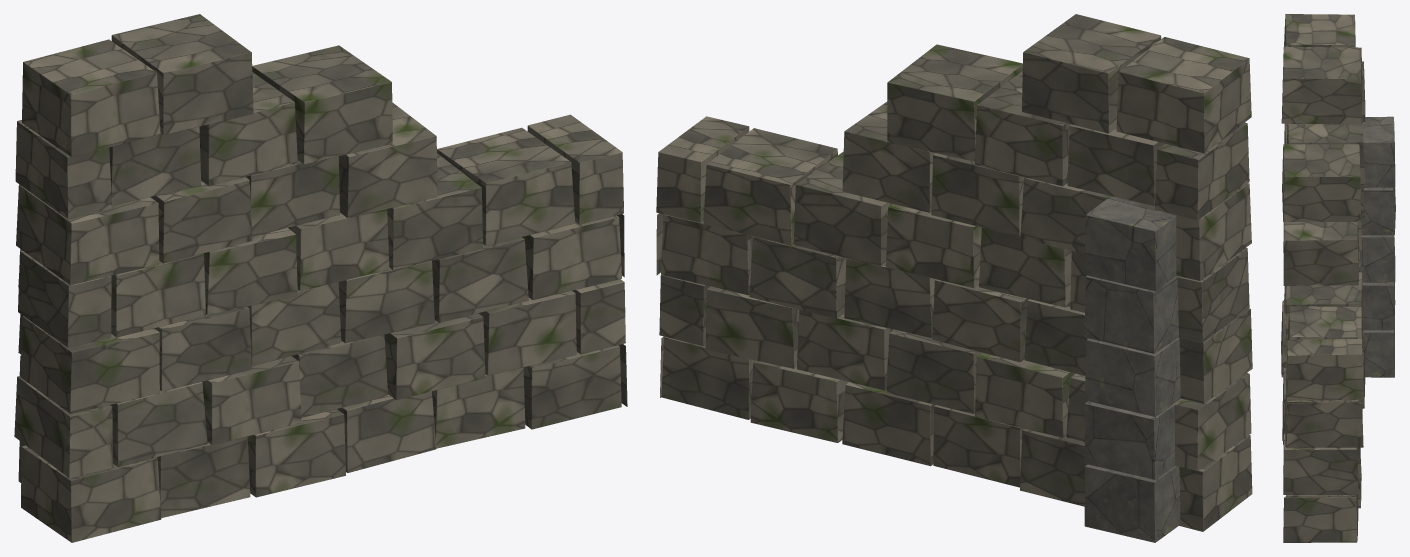
File: RuinWall_A.fbx
The picture shows the model from 3 angles, left to right: view 1: azimuth 30°, elevation 25°; view 2: azimuth 150°, elevation 25°; view 3: azimuth 270°, elevation 25°; orthographic projection. The views are drawn at different scales.
Visible parts, largest first — view 1: RuinWall_A; view 2: RuinWall_A; view 3: RuinWall_A.
Part boxes in pixels (left/top/right/bottom): RuinWall_A: left=14, top=14, right=627, bottom=542; RuinWall_A: left=656, top=14, right=1252, bottom=542; RuinWall_A: left=1281, top=14, right=1395, bottom=542.
Size of the model in its own units: 500 by 385 by 121.
